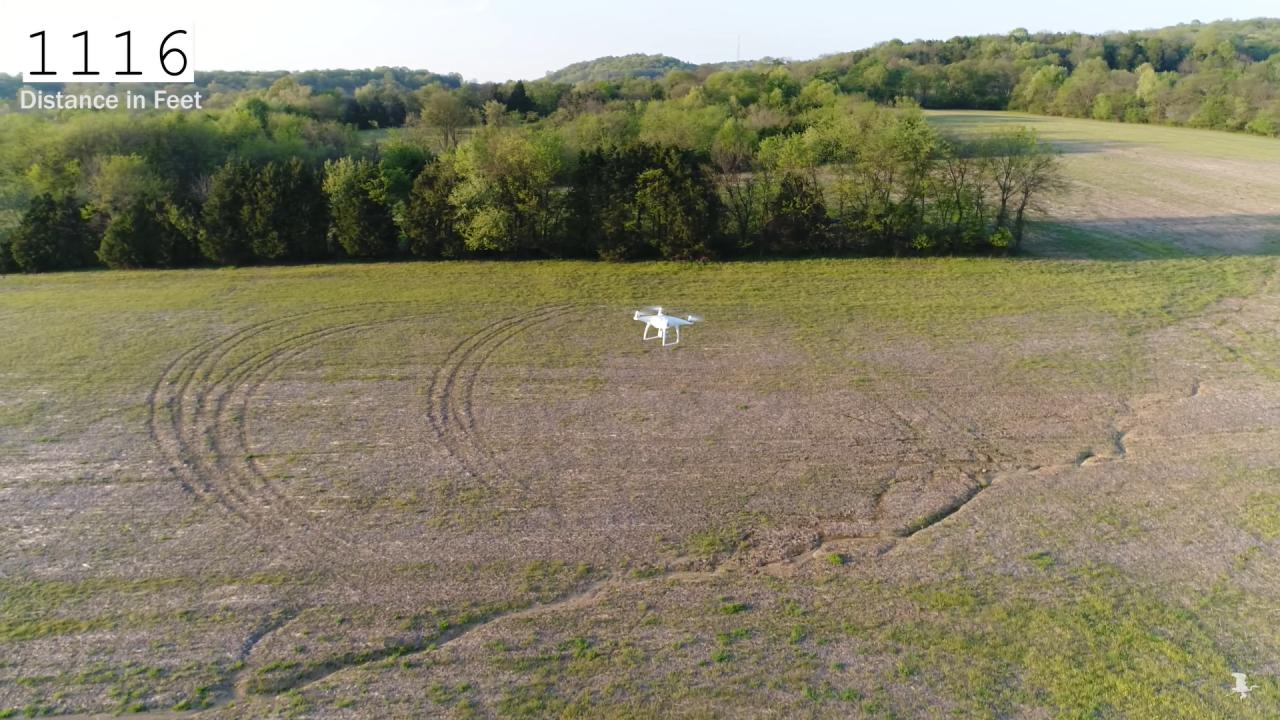Drone: (619, 295, 710, 356)
